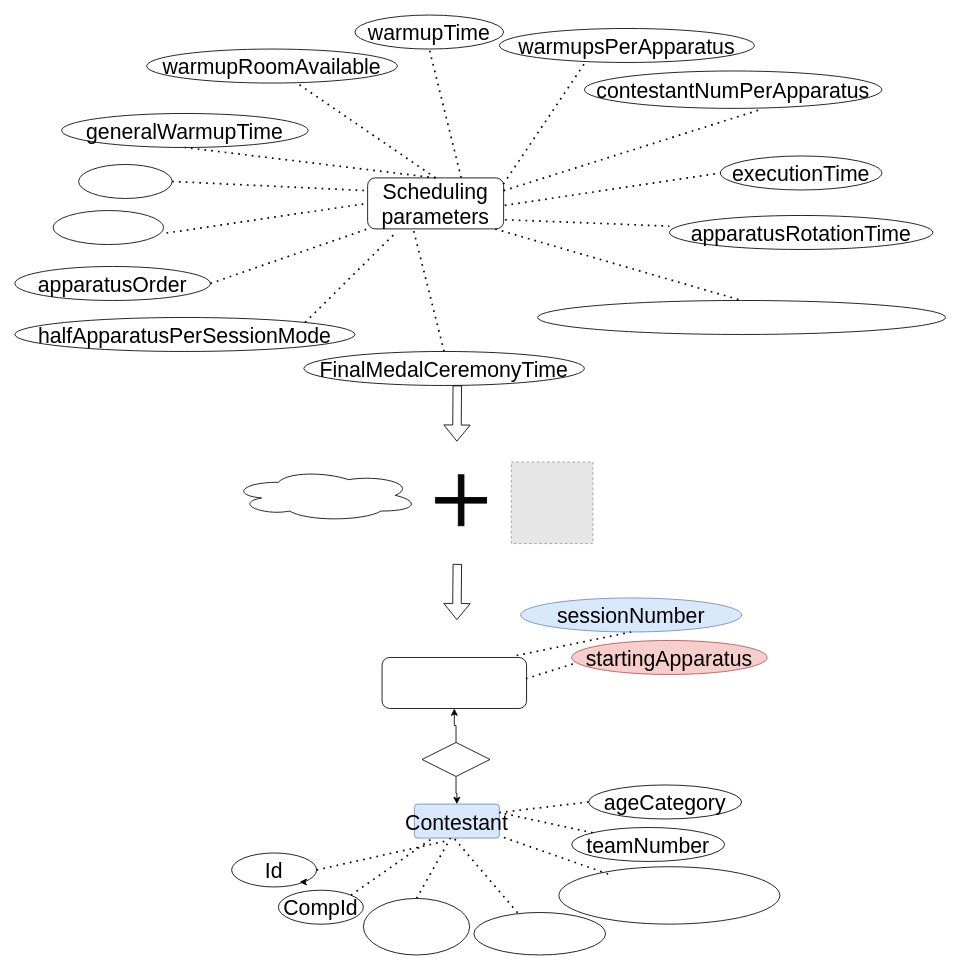
This 961x970 diagram has some shape labels left out. Grey dashed boxes stand in for pictures. Each missing label, with the box of its shape:
Business logic: (231, 468, 419, 521)
Competing apparatuses: (558, 866, 780, 924)
endTime: (78, 164, 172, 198)
Full name: (363, 898, 470, 955)
has: (421, 742, 490, 776)
medalCeremonyAfterOneSeesionTime: (537, 300, 946, 334)
Ogranization: (473, 912, 606, 955)
ScheduleSlot: (381, 657, 527, 708)
startTime: (52, 210, 164, 245)
